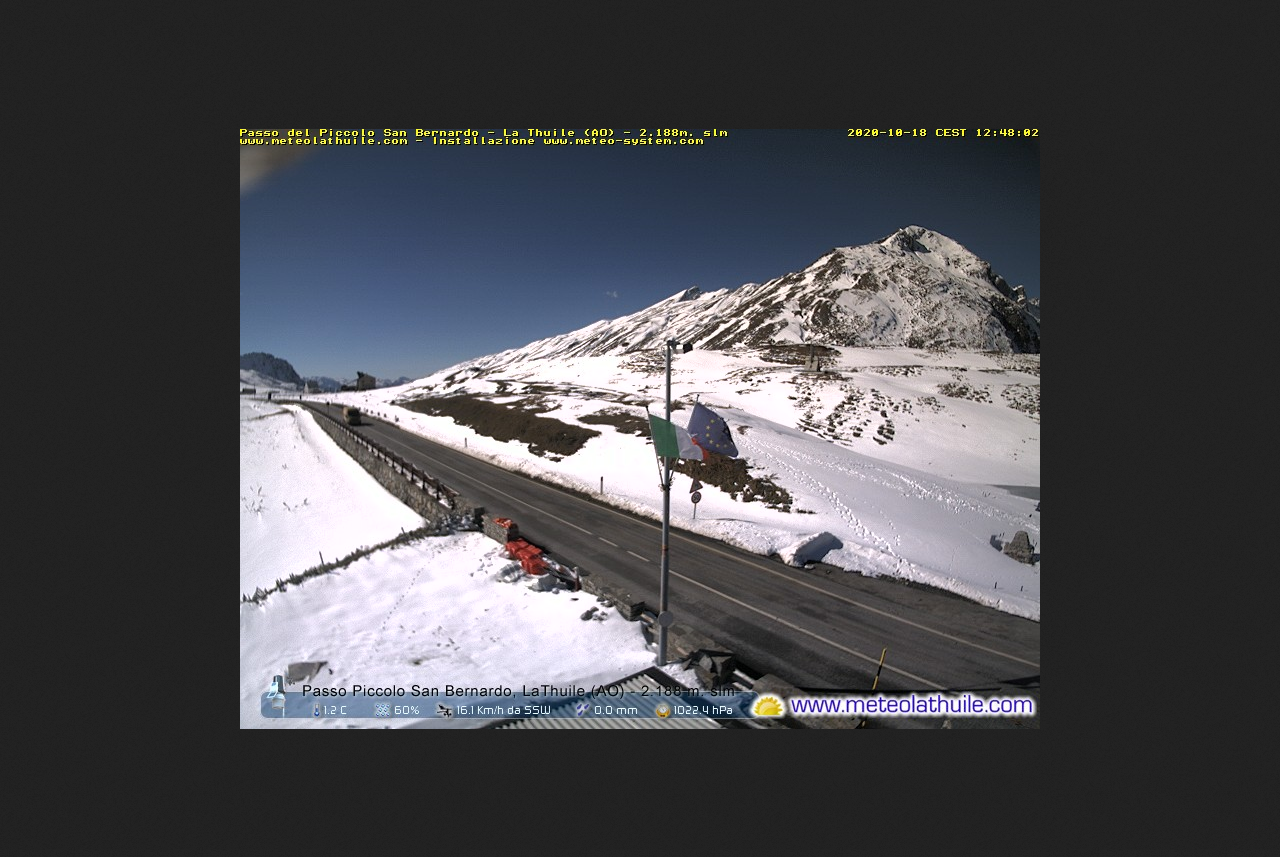yes: (673, 394, 747, 465), (639, 403, 708, 471)
